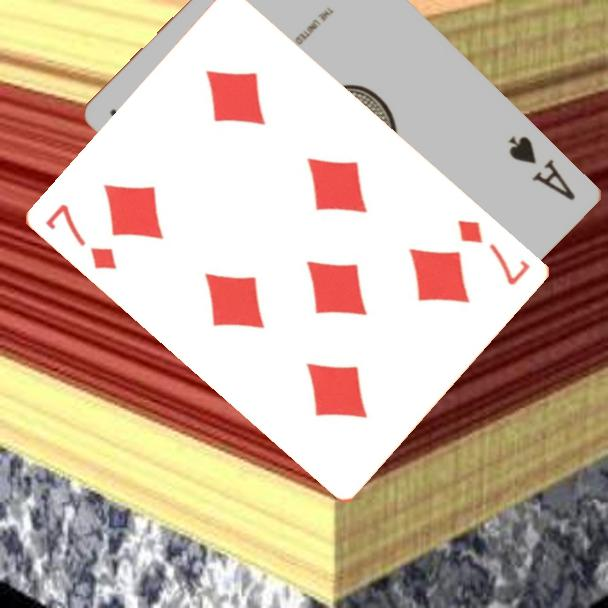d07: (42, 200, 121, 273), (454, 216, 534, 288)
s01: (505, 132, 580, 204)
